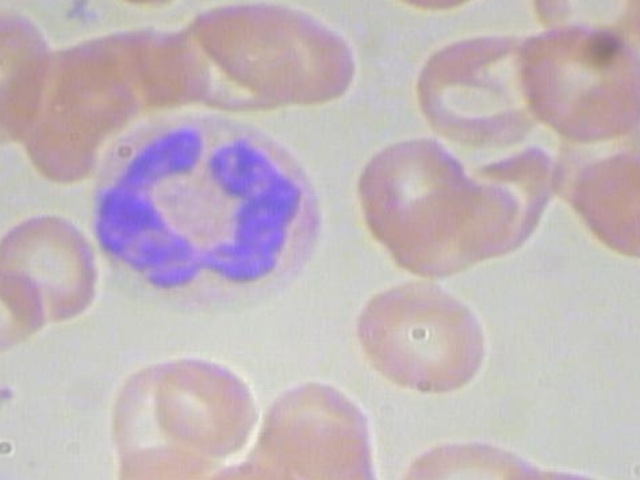RBC: (188, 0, 358, 115), (344, 275, 494, 395), (407, 29, 543, 148), (514, 25, 640, 140), (352, 131, 474, 238), (257, 374, 379, 480), (0, 210, 102, 328), (146, 357, 263, 457), (569, 147, 640, 259), (0, 4, 53, 134), (0, 262, 49, 369)
WBC: (82, 105, 331, 316)
